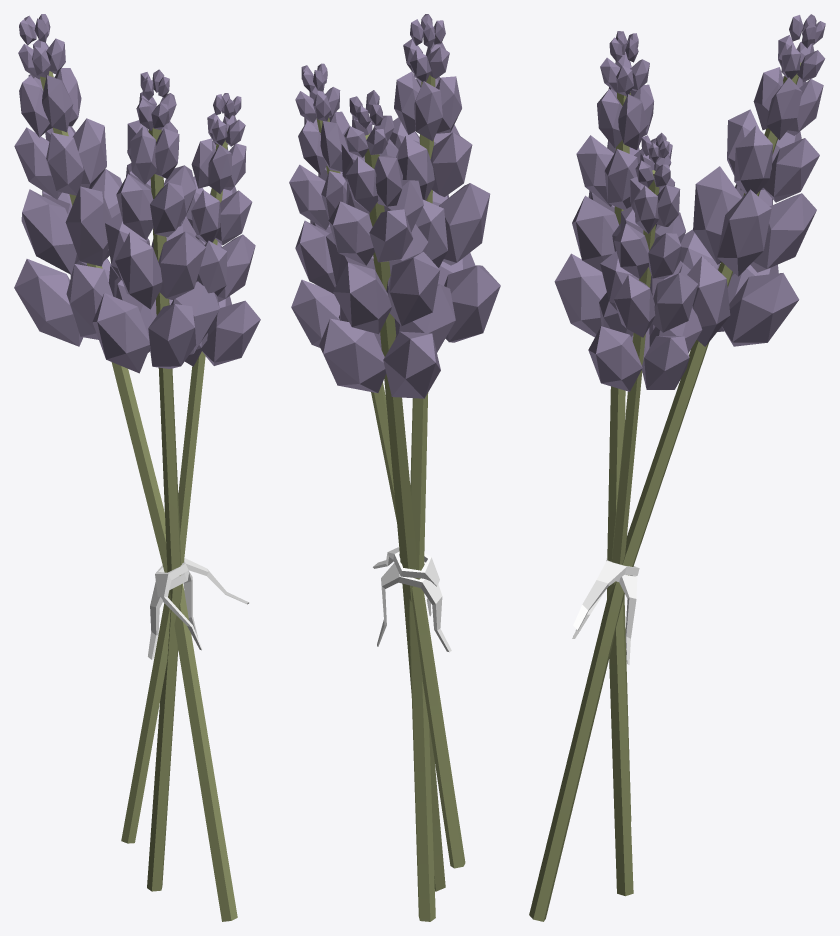
The model's file is lavender_bundle.fbx.
3 views of the same model, side by side, from view 1: azimuth 30°, elevation 25°; view 2: azimuth 150°, elevation 25°; view 3: azimuth 270°, elevation 25° (orthographic). The views are drawn at different scales.
Parts seen in each view (by area): view 1: pPlatonic29; view 2: pPlatonic29; view 3: pPlatonic29.
Boxes of the visible parts, <box> form: pPlatonic29: <box>14,14,260,921</box>; pPlatonic29: <box>289,14,500,921</box>; pPlatonic29: <box>529,14,825,921</box>.
Bounding box in the file's own units: 0.1775 × 0.7893 × 0.2438.
